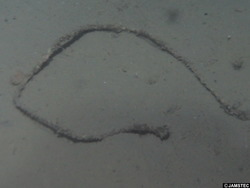rope: (10, 18, 250, 145)
